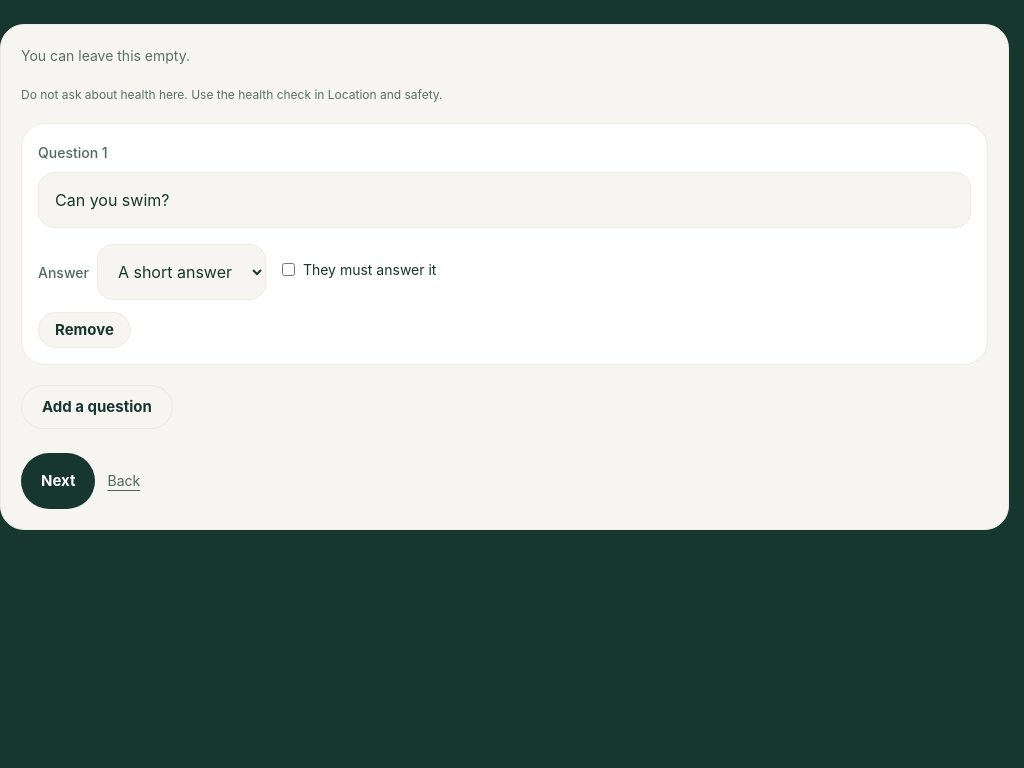
a refused step › draws Questions as they were chosen, not as they were saved
This screenshot has width=1024, height=768.
Select "Yes or no" in the dropdown showing "A short answer" at {"x": 181, "y": 272}, box [97,244,266,300]
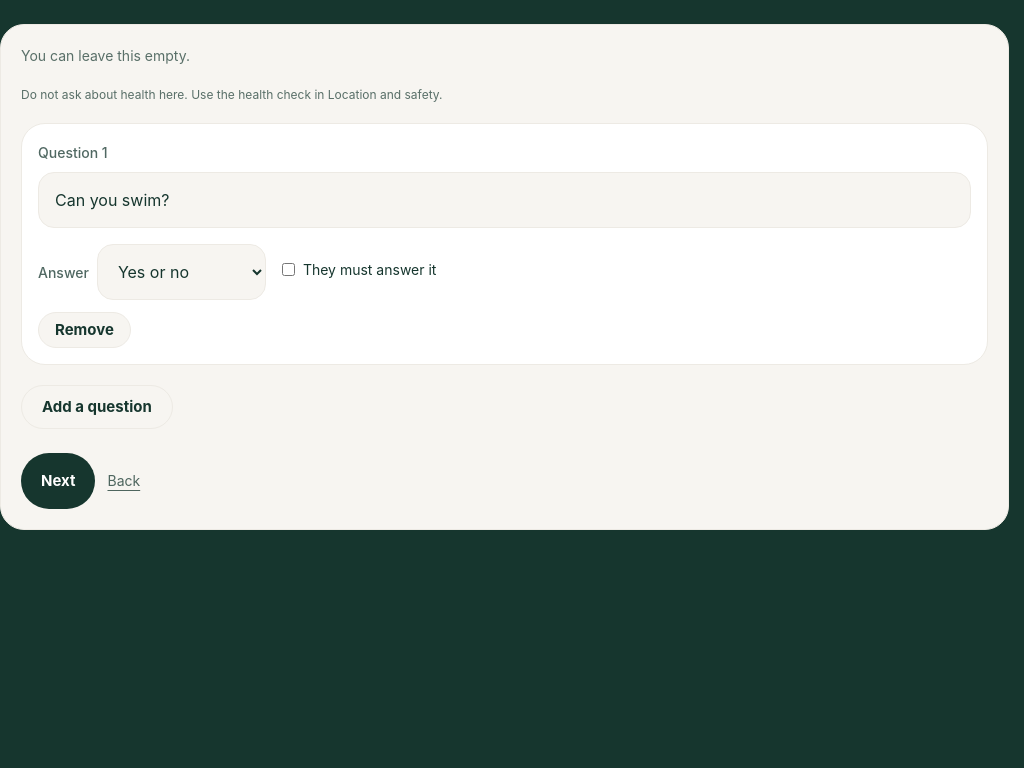
Click the checkbox labelled "They must answer it".
click(288, 270)  # box [282,263,295,276]
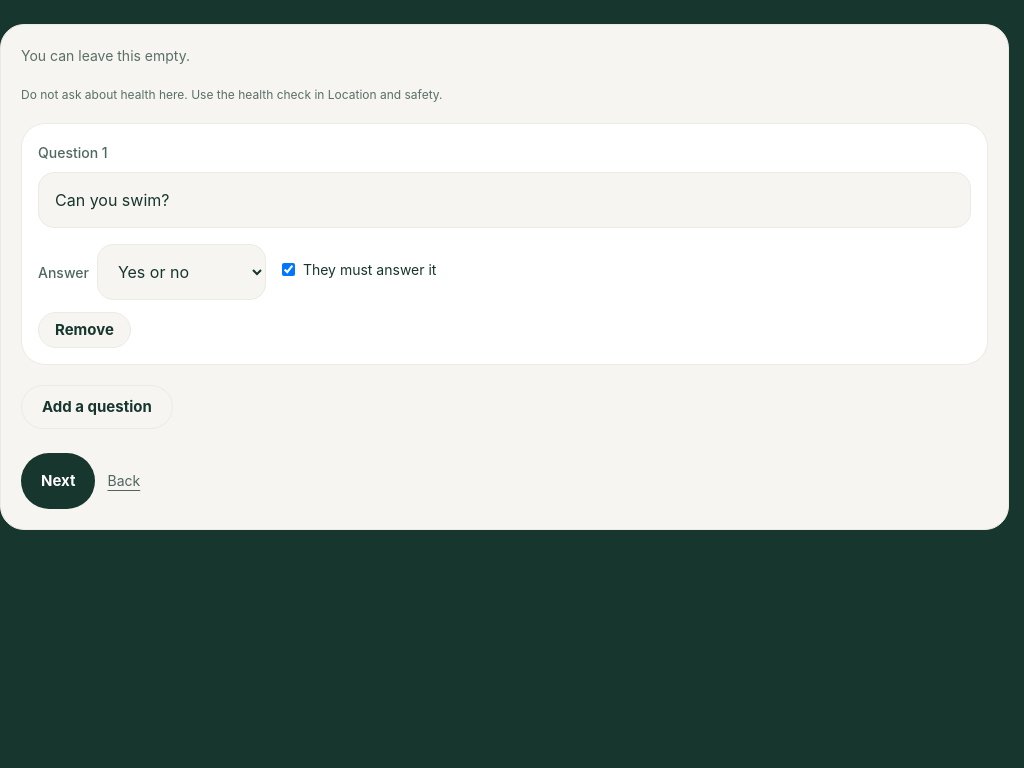
Click the button "Next".
click(58, 481)  # box [21,453,96,509]
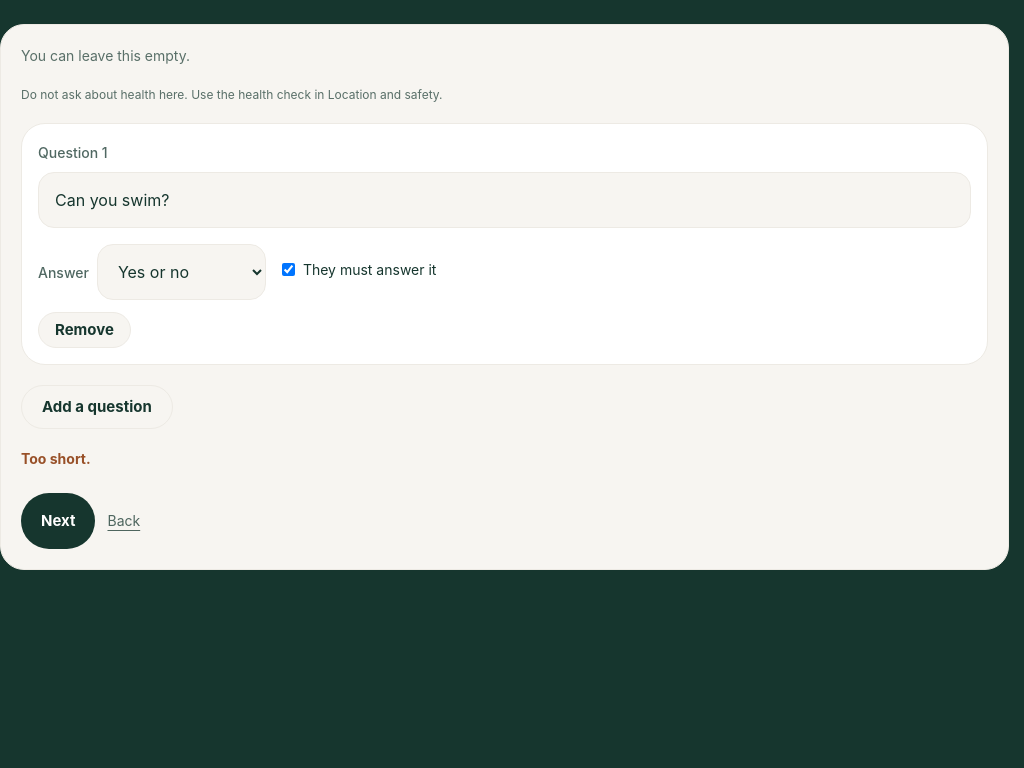
Expected: the dropdown showing "Yes or no" is shown, [97,244,266,300]
Expected: the checkbox labelled "They must answer it" is checked, [282,263,295,276]
Expected: the text "Too short." is shown, [21,450,91,467]
